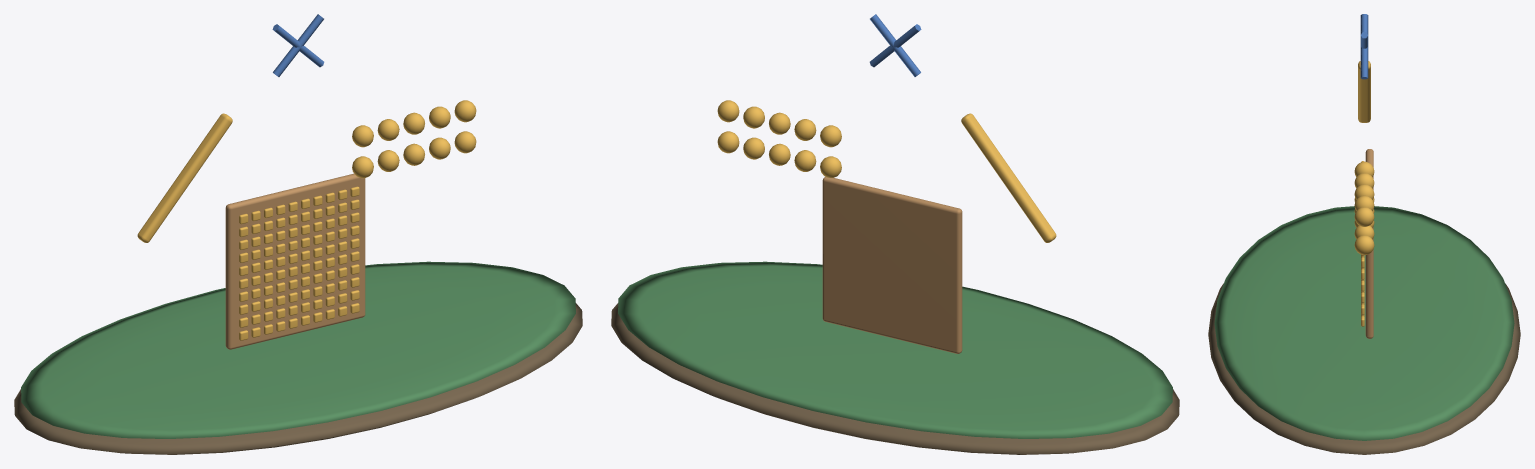
Rendered from complete-first-thousand-counting.glb.
The picture shows the model from 3 angles, left to right: view 1: azimuth 30°, elevation 25°; view 2: azimuth 150°, elevation 25°; view 3: azimuth 270°, elevation 25°; orthographic projection. The views are drawn at different scales.
Visible parts, largest first — view 1: complete-first-thousand-counting_surface_01, complete-first-thousand-counting_surface_02, complete-first-thousand-counting_surface_03, complete-first-thousand-counting_surface_00, complete-first-thousand-counting_surface_04; view 2: complete-first-thousand-counting_surface_01, complete-first-thousand-counting_surface_03, complete-first-thousand-counting_surface_00, complete-first-thousand-counting_surface_02, complete-first-thousand-counting_surface_04; view 3: complete-first-thousand-counting_surface_01, complete-first-thousand-counting_surface_00, complete-first-thousand-counting_surface_02, complete-first-thousand-counting_surface_03, complete-first-thousand-counting_surface_04.
Boxes of the visible parts, box(x1,y1,x2,y2) form: complete-first-thousand-counting_surface_01: box(21, 261, 575, 438); complete-first-thousand-counting_surface_02: box(137, 100, 476, 340); complete-first-thousand-counting_surface_03: box(225, 173, 365, 349); complete-first-thousand-counting_surface_00: box(14, 303, 582, 454); complete-first-thousand-counting_surface_04: box(272, 14, 324, 76); complete-first-thousand-counting_surface_01: box(618, 261, 1172, 438); complete-first-thousand-counting_surface_03: box(822, 177, 962, 353); complete-first-thousand-counting_surface_00: box(611, 303, 1179, 454); complete-first-thousand-counting_surface_02: box(717, 100, 1056, 242); complete-first-thousand-counting_surface_04: box(869, 14, 921, 76); complete-first-thousand-counting_surface_01: box(1214, 206, 1514, 440); complete-first-thousand-counting_surface_00: box(1208, 283, 1520, 454); complete-first-thousand-counting_surface_02: box(1354, 61, 1374, 326); complete-first-thousand-counting_surface_03: box(1365, 149, 1373, 338); complete-first-thousand-counting_surface_04: box(1360, 14, 1368, 79).
Bounding box in the file's own units: 4.56 × 2.88 × 2.5.
